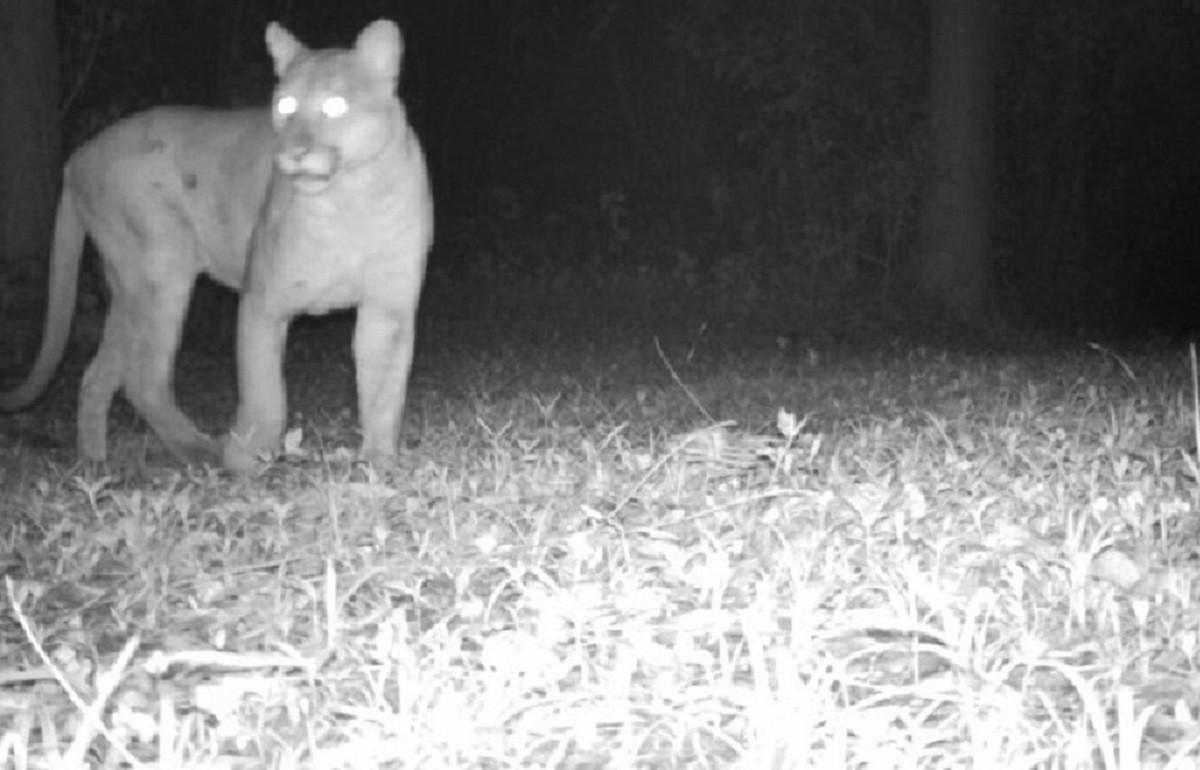OncaParda: (18, 16, 447, 489)
